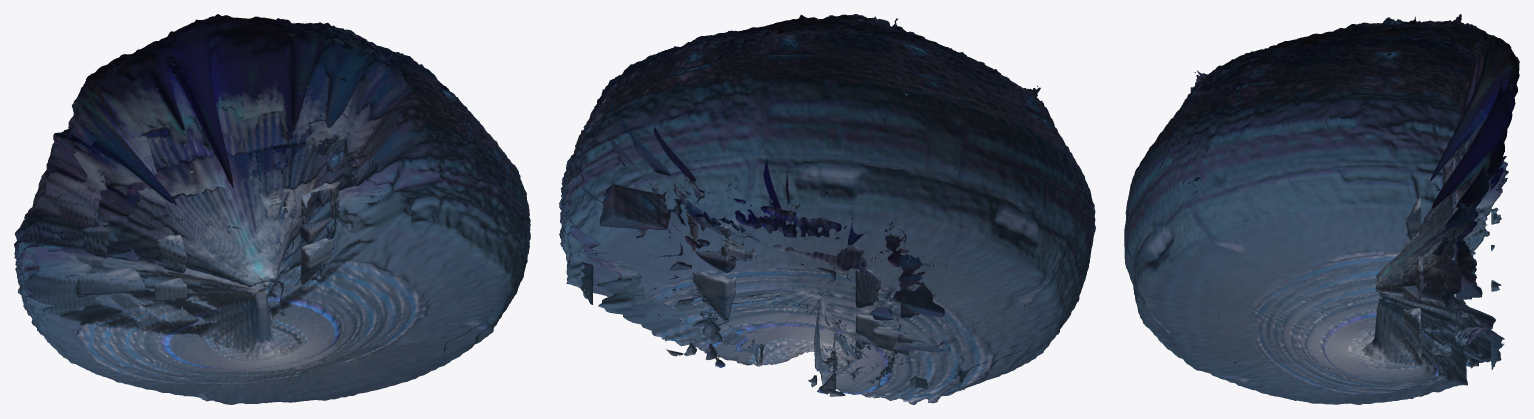
Rendered from Massive Stage Processor Plinth_collider.glb.
3 renders of one model, left to right at view 1: azimuth 30°, elevation 25°; view 2: azimuth 150°, elevation 25°; view 3: azimuth 270°, elevation 25°, orthographic. The views are drawn at different scales.
Parts seen in each view (by area): view 1: world; view 2: world; view 3: world.
Boxes of the visible parts, x1,y1,x2,y2 form: world: [14, 14, 530, 404]; world: [559, 14, 1095, 404]; world: [1124, 14, 1519, 404].
Size of the model in its own units: 7.03 by 4.58 by 5.21.
